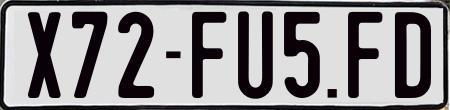2: (117, 9, 159, 99)
5: (282, 11, 321, 103)
7: (69, 9, 104, 99)
D: (394, 10, 430, 99)
F: (345, 11, 380, 101), (191, 9, 225, 96)
U: (237, 8, 275, 101)
X: (28, 9, 64, 98)
